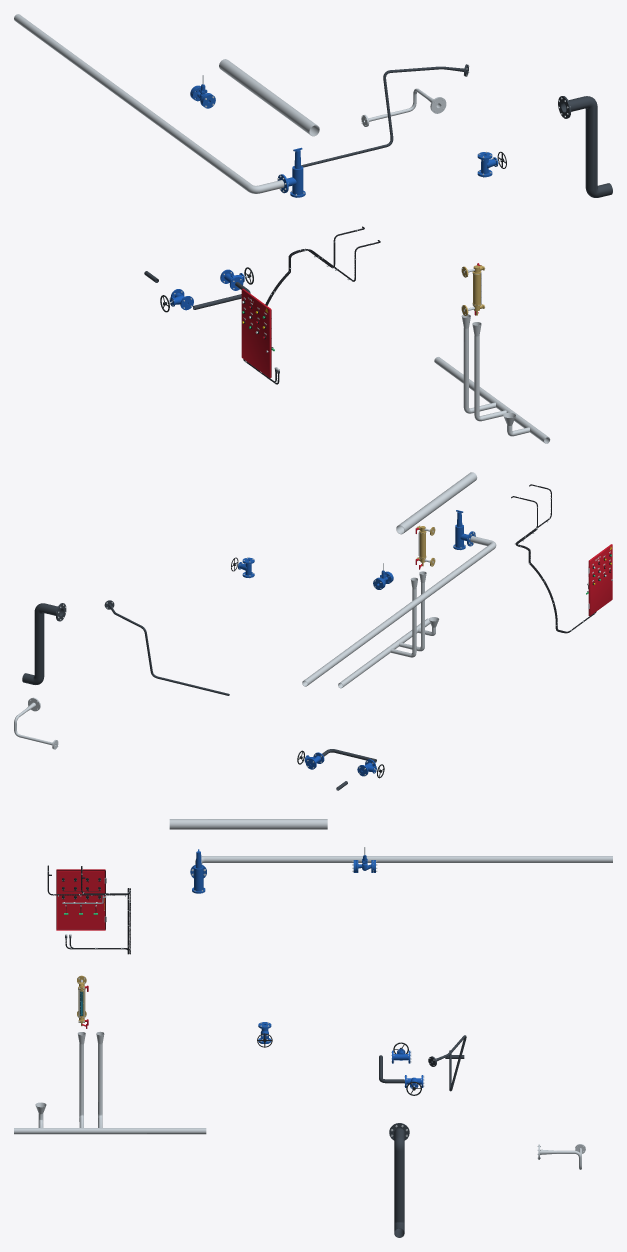
File: s4000-6-BETE3thP.glb
3 renders of one model, top to bottom at view 1: azimuth 30°, elevation 25°; view 2: azimuth 150°, elevation 25°; view 3: azimuth 270°, elevation 25°, orthographic. The views are drawn at different scales.
Visible parts, largest first — view 1: safety_vent_2 / steel, local_open_drains / steel, cabinet_door / cabinet_door_5.npz, bdv_water_drain / dark, steam_delivery / steel, tds_without_fv / dark, safety_2 / blue, fv_to_trap_gap / steel, sight_glasses_1 / sight_glasses_1_0.npz; view 2: safety_vent_2 / steel, local_open_drains / steel, cabinet_door / cabinet_door_5.npz, bdv_water_drain / dark, steam_delivery / steel, tds_without_fv / dark, sight_glasses_1 / sight_glasses_1_0.npz, fv_to_trap_gap / steel; view 3: cabinet_door / cabinet_door_5.npz, safety_vent_2 / steel, local_open_drains / steel, bdv_water_drain / dark, steam_delivery / steel.
Boxes of the visible parts, x1,y1,x2,y2 form: safety_vent_2 / steel: (14,14,284,193); local_open_drains / steel: (434,314,550,443); cabinet_door / cabinet_door_5.npz: (241,288,271,377); bdv_water_drain / dark: (558,96,612,197); steam_delivery / steel: (219,59,295,118); tds_without_fv / dark: (301,64,468,167); safety_2 / blue: (277,147,305,197); fv_to_trap_gap / steel: (361,88,446,126); sight_glasses_1 / sight_glasses_1_0.npz: (461,263,485,315); safety_vent_2 / steel: (302,536,496,686); local_open_drains / steel: (338,571,439,688); cabinet_door / cabinet_door_5.npz: (588,544,612,615); bdv_water_drain / dark: (22,603,66,684); steam_delivery / steel: (396,485,459,534); tds_without_fv / dark: (104,600,229,695); sight_glasses_1 / sight_glasses_1_0.npz: (415,525,435,569); fv_to_trap_gap / steel: (14,697,58,749); cabinet_door / cabinet_door_5.npz: (56,869,106,930); safety_vent_2 / steel: (195,856,612,864); local_open_drains / steel: (14,1031,206,1134); bdv_water_drain / dark: (389,1123,409,1237); steam_delivery / steel: (207,819,327,829).
Bounding box in the file's own units: 5.87 × 3.01 × 6.45.
